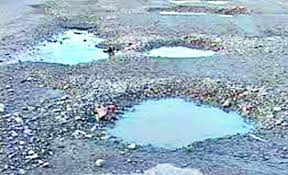pothole: (108, 78, 259, 154), (26, 14, 112, 69), (135, 24, 221, 68)
